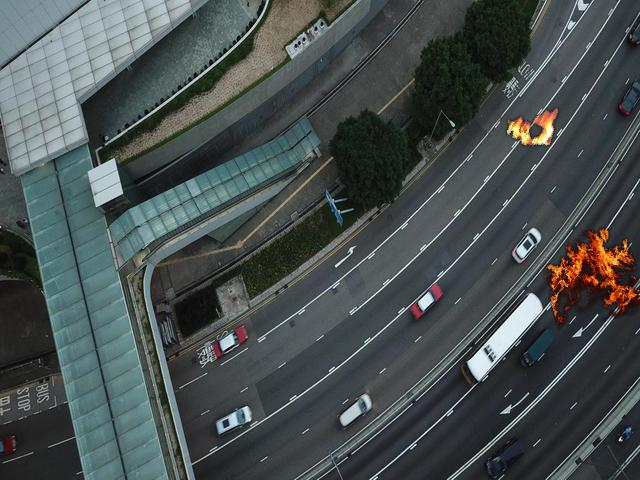fire: (542, 226, 640, 331), (504, 107, 560, 148)
